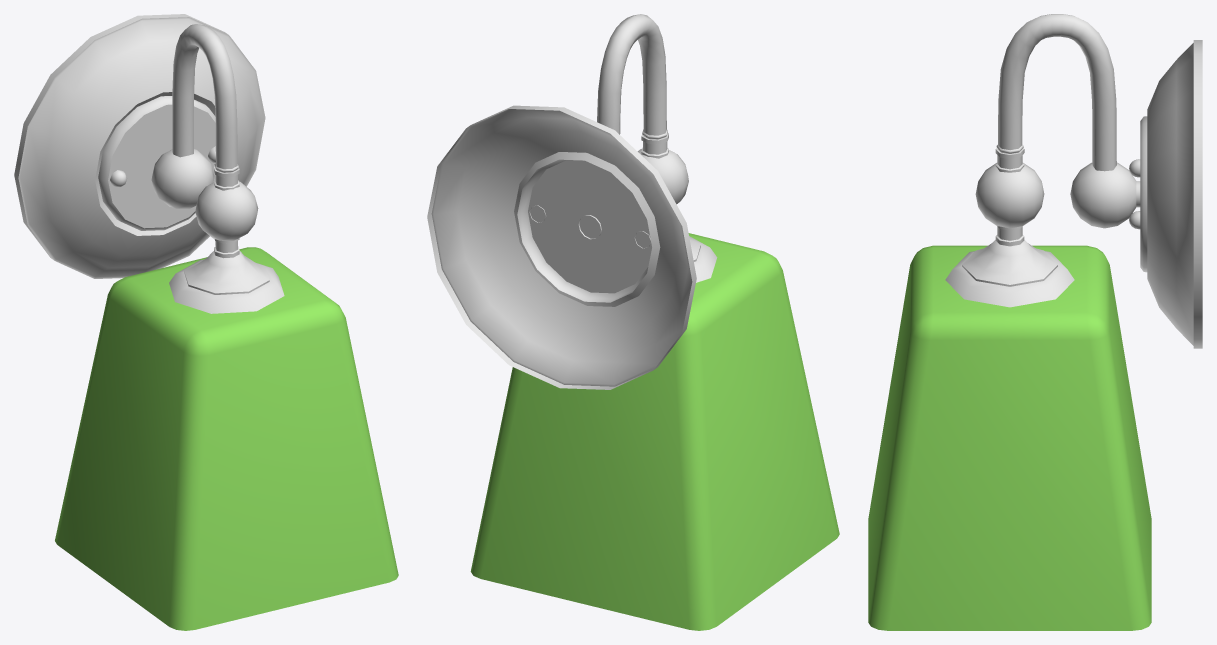
File: InteriorLight04.fbx
The picture shows the model from 3 angles, left to right: view 1: azimuth 30°, elevation 25°; view 2: azimuth 150°, elevation 25°; view 3: azimuth 270°, elevation 25°; orthographic projection. The views are drawn at different scales.
Visible parts, largest first — view 1: Circle_003; view 2: Circle_003; view 3: Circle_003.
Part boxes in pixels (x1=…): Circle_003: x1=14, y1=14, x2=398, y2=630; Circle_003: x1=427, y1=14, x2=839, y2=630; Circle_003: x1=868, y1=14, x2=1202, y2=630.
Size of the model in its own units: 27.4 by 54.55 by 29.68.
